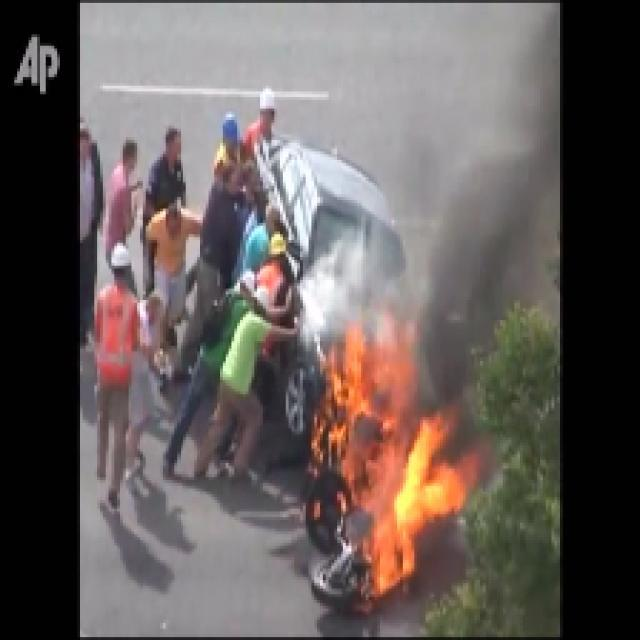Fire: (328, 353, 446, 579)
Smoke: (438, 81, 551, 326)
